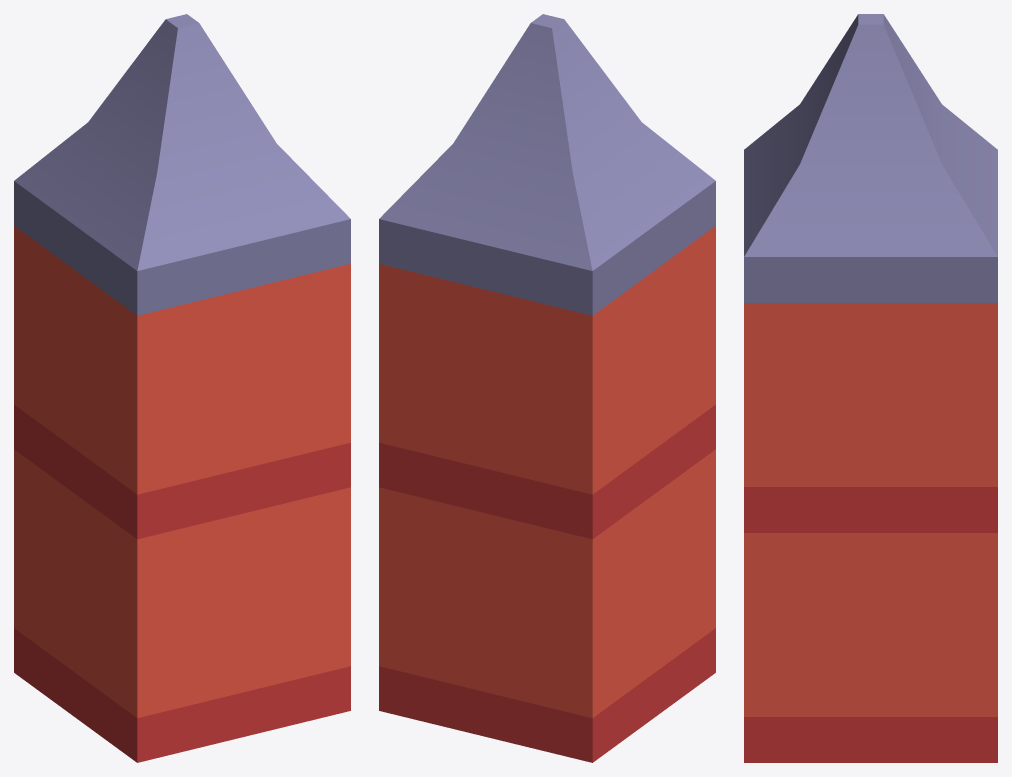
Rendered from tower-1.fbx.
3 renders of one model, left to right at view 1: azimuth 30°, elevation 25°; view 2: azimuth 150°, elevation 25°; view 3: azimuth 270°, elevation 25°, orthographic. The views are drawn at different scales.
Parts seen in each view (by area): view 1: block (×2), roof_pointSteps; view 2: block (×2), roof_pointSteps; view 3: block (×2), roof_pointSteps.
Part boxes in pixels (<box>): block (×2): <box>14,226,350,762</box>; roof_pointSteps: <box>14,14,350,315</box>; block (×2): <box>379,226,715,762</box>; roof_pointSteps: <box>379,14,715,315</box>; block (×2): <box>744,303,997,762</box>; roof_pointSteps: <box>744,14,997,302</box>.
Size of the model in its own units: 10 by 30 by 10.
